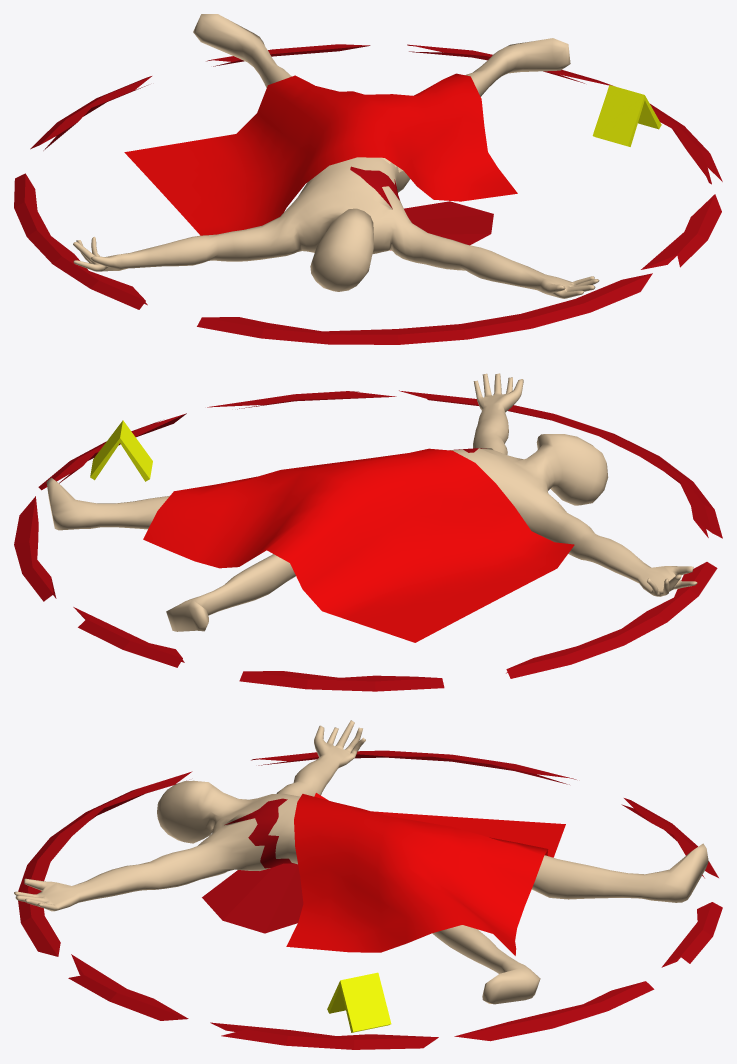
Rendered from morto.glb.
3 renders of one model, top to bottom at view 1: azimuth 30°, elevation 25°; view 2: azimuth 150°, elevation 25°; view 3: azimuth 270°, elevation 25°, orthographic.
Parts seen in each view (by area): view 1: corpo; view 2: corpo; view 3: corpo.
Part boxes in pixels (x1,y1,x2,y2): corpo: (14, 14, 722, 344); corpo: (14, 373, 722, 691); corpo: (14, 720, 722, 1049).
Bounding box in the file's own units: 3.45 × 0.4328 × 3.44.
